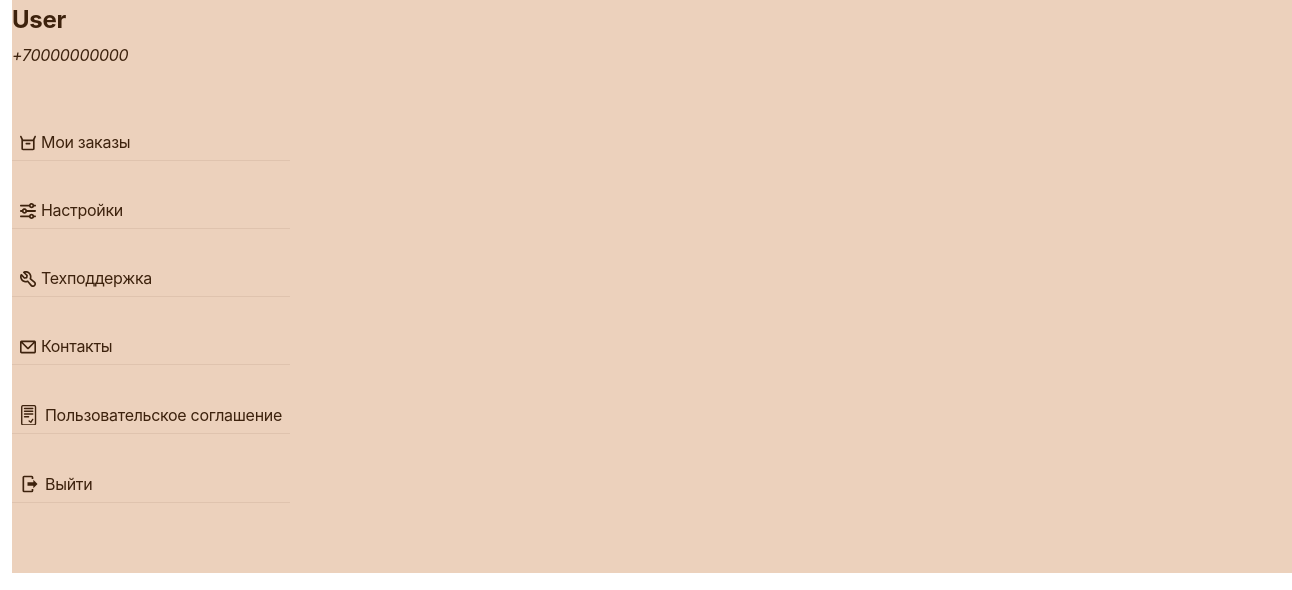
Scenario: Profile › Кнопка Техподдержка показывает страницу поддержки
Click the button "Техподдержка" at (151, 279), box [12,261,290,297]
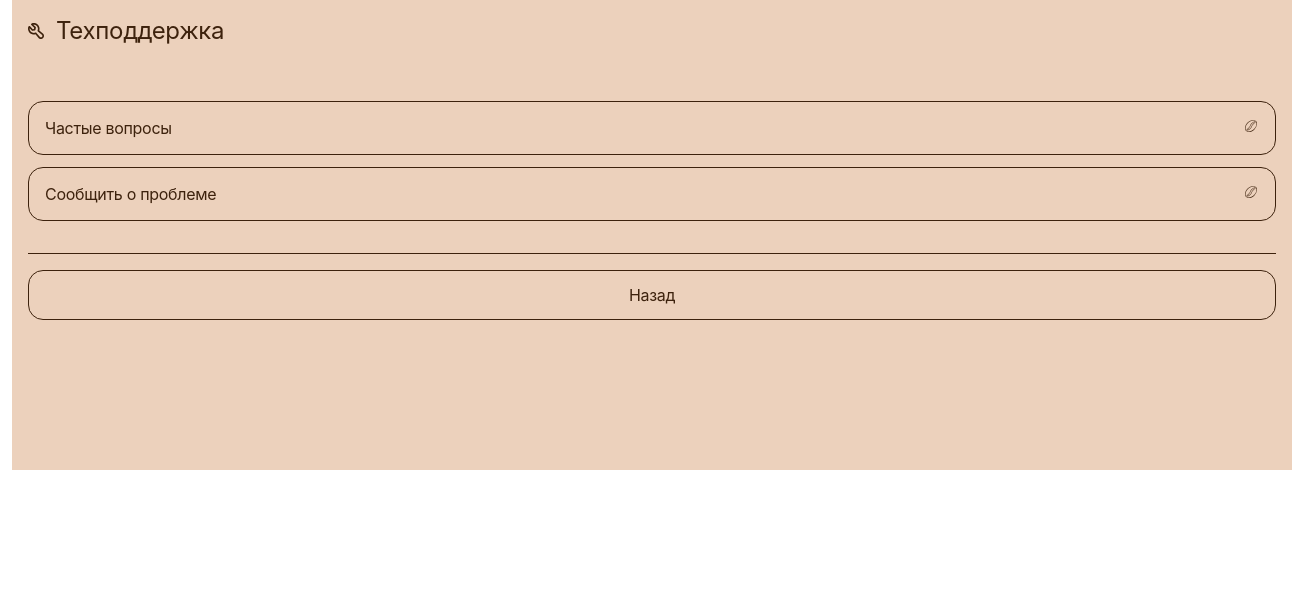
Now the text "Частые вопросы" is shown, box [45,118,172,138]
Now the button "Мои заказы" is gone
